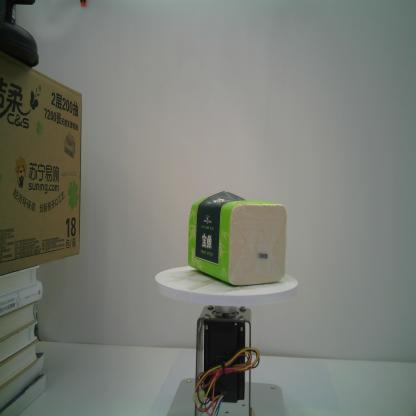Tissue: (186, 189, 288, 287)
